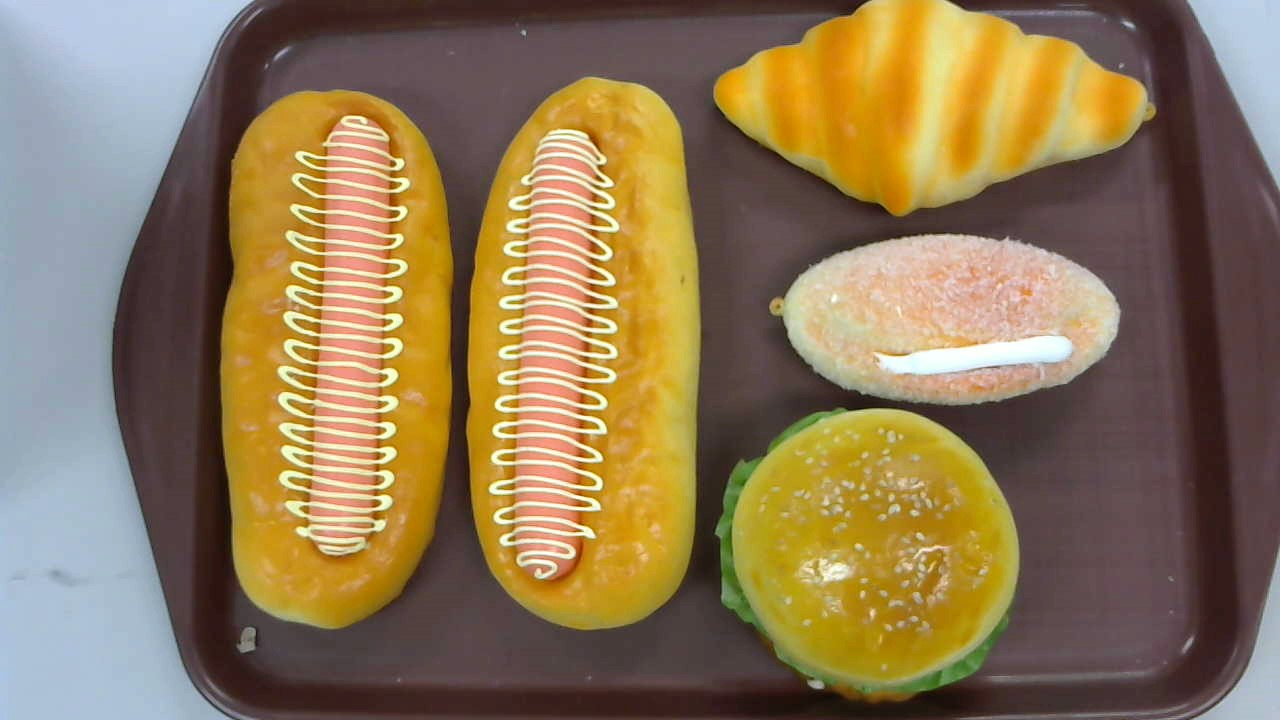coconut: (768, 232, 1122, 407)
croissant: (713, 1, 1157, 217)
hamburger: (714, 407, 1020, 703)
hot dog: (466, 75, 702, 629), (219, 89, 453, 628)
